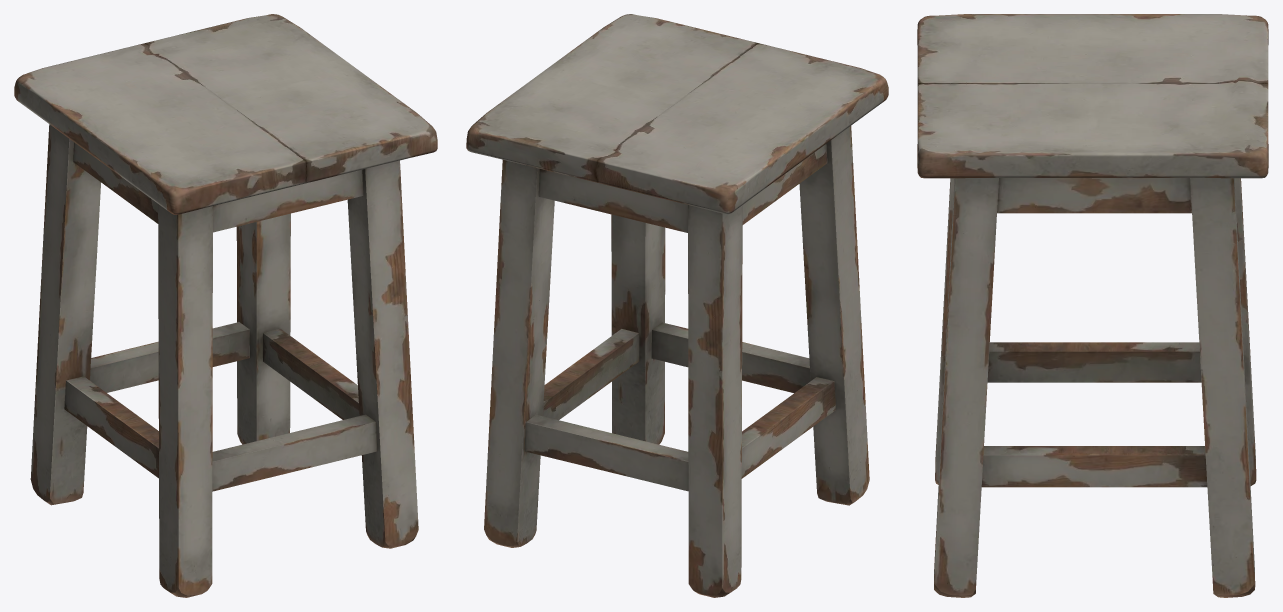
File: aad78f1d-ca8a-4def-bee7-836207e91484.glb
3 renders of one model, left to right at view 1: azimuth 30°, elevation 25°; view 2: azimuth 150°, elevation 25°; view 3: azimuth 270°, elevation 25°, orthographic. The views are drawn at different scales.
Parts seen in each view (by area): view 1: painted_wooden_stool; view 2: painted_wooden_stool; view 3: painted_wooden_stool.
Part boxes in pixels (<box>): painted_wooden_stool: <box>14,14,437,597</box>; painted_wooden_stool: <box>466,14,888,597</box>; painted_wooden_stool: <box>917,14,1268,597</box>.
Size of the model in its own units: 0.3848 by 0.5789 by 0.4061.
Materials: 1 (1 with a texture image).
